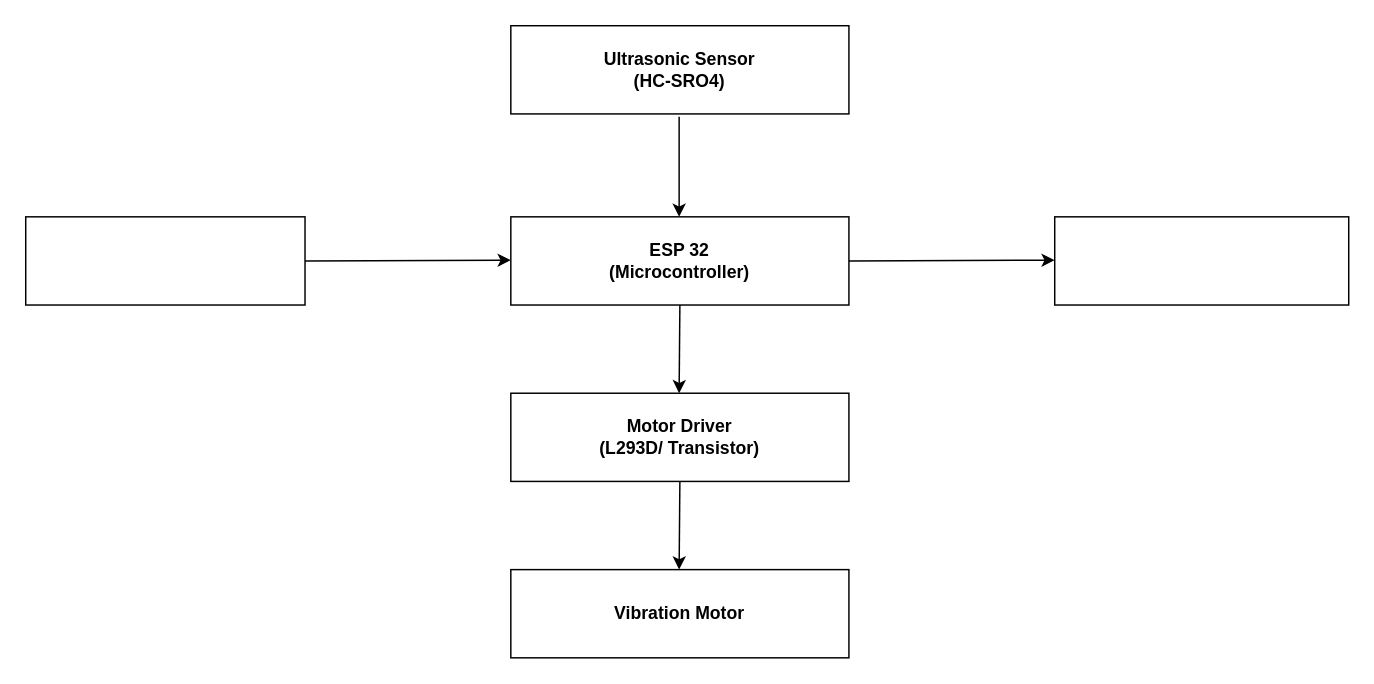
Image size: 1374x684. Some labels were removed from this diagram. The shapes that lost their labels are listed below. From the top down, each one's centre as x and y in pixels, then its label:
At point 164,260: "9V / 5V Battery".
At point 1201,260: "Buzzer".
